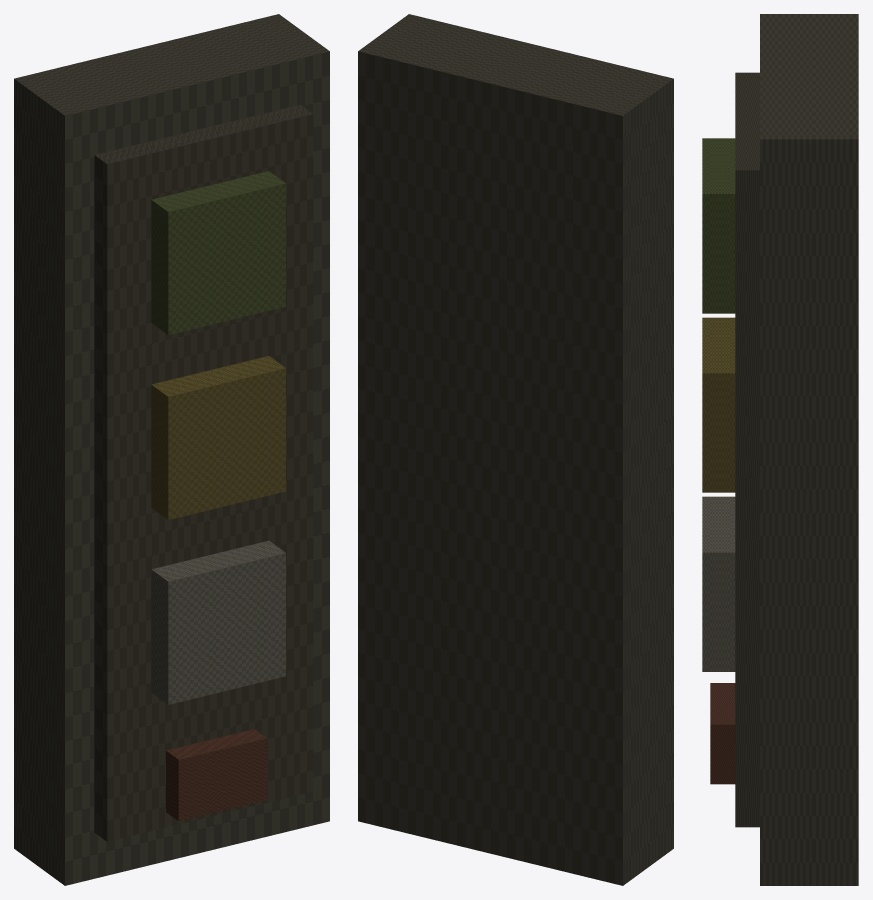
Rendered from prop_elevator_panel.glb.
3 views of the same model, side by side, from view 1: azimuth 30°, elevation 25°; view 2: azimuth 150°, elevation 25°; view 3: azimuth 270°, elevation 25° (orthographic). The views are drawn at different scales.
Parts seen in each view (by area): view 1: prop_elevator_panel; view 2: prop_elevator_panel; view 3: prop_elevator_panel.
Part boxes in pixels (left/top/right/bottom): prop_elevator_panel: left=14, top=14, right=329, bottom=885; prop_elevator_panel: left=358, top=14, right=673, bottom=885; prop_elevator_panel: left=702, top=14, right=858, bottom=885.
Size of the model in its own units: 0.18 by 0.5 by 0.095.
Materials: 1 (1 with a texture image).
